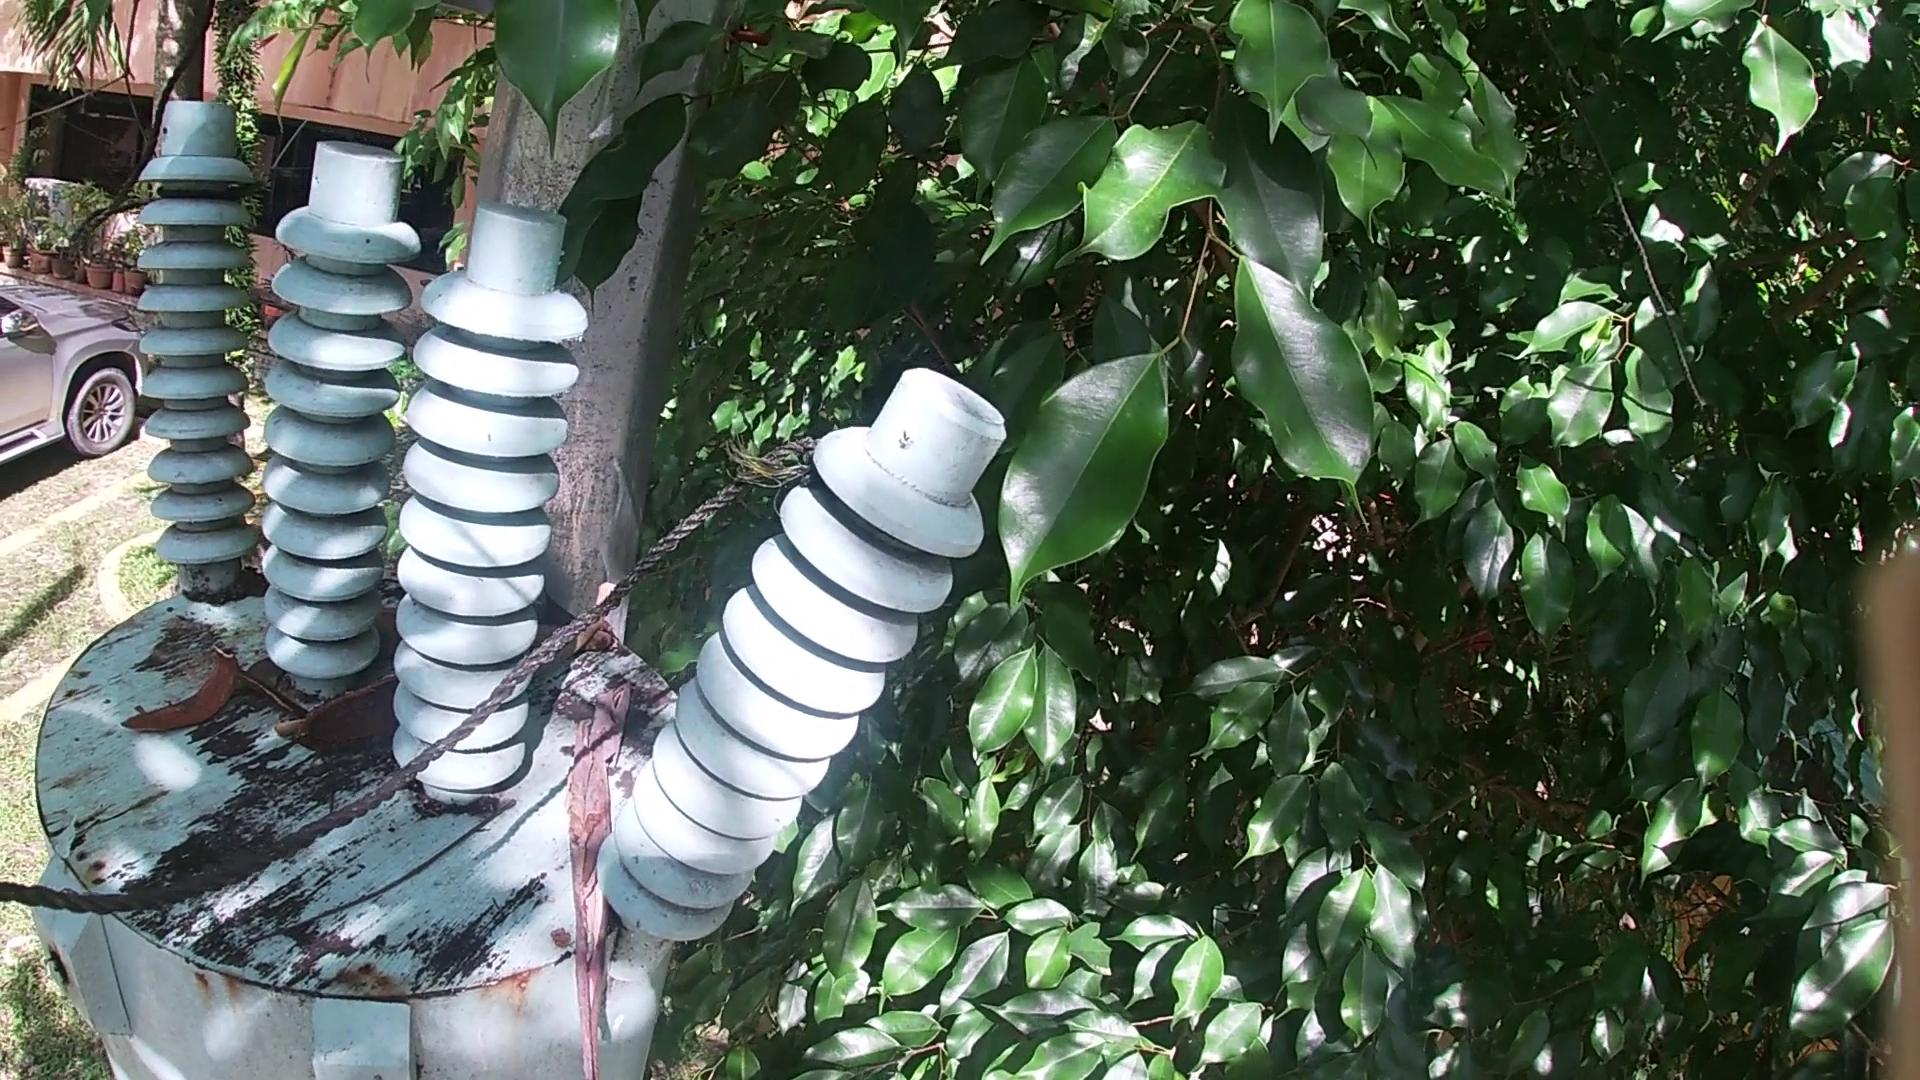leaf: (243, 678, 294, 712)
mahogany fruit: (117, 647, 243, 741), (301, 678, 392, 761)
tree branch: (219, 793, 521, 961), (535, 675, 640, 1080), (534, 607, 632, 655), (265, 717, 301, 742)
